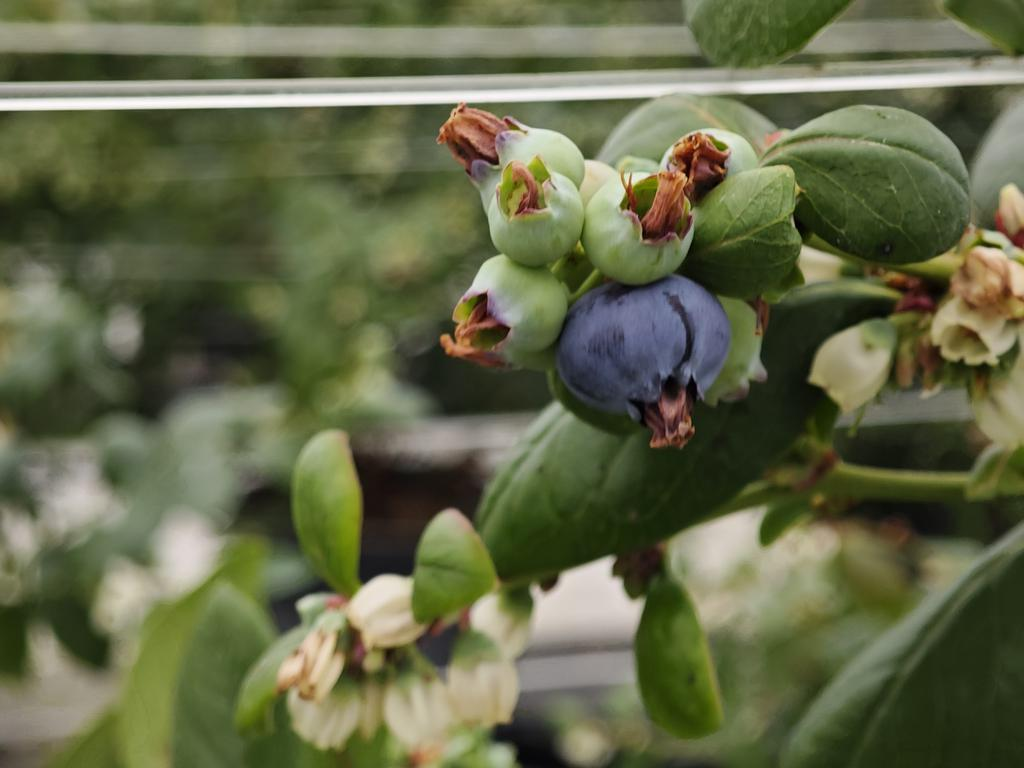RipeBlueBerry: (557, 271, 732, 426)
